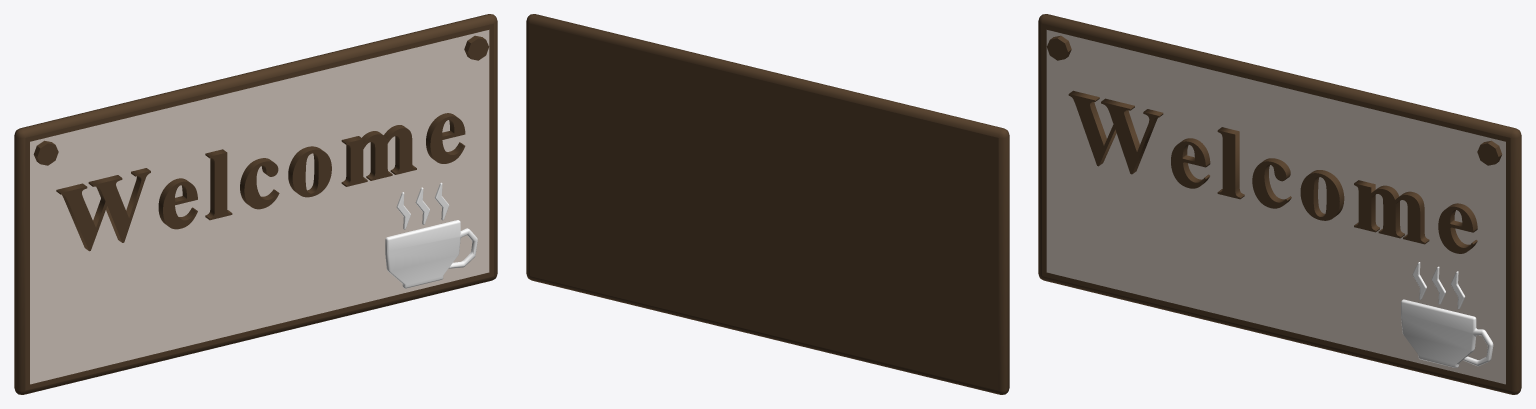
File: minicafe_wel.glb
The picture shows the model from 3 angles, left to right: view 1: azimuth 30°, elevation 25°; view 2: azimuth 150°, elevation 25°; view 3: azimuth 330°, elevation 25°; orthographic projection.
Visible parts, largest first — view 1: 立方体, テキスト, 立方体.001, 円柱, 立方体.002; view 2: 立方体; view 3: 立方体, テキスト, 立方体.001, 円柱, 立方体.002.
Boxes of the visible parts, bbox=[...] form: 立方体: bbox=[14, 14, 497, 394]; テキスト: bbox=[56, 113, 465, 251]; 立方体.001: bbox=[385, 220, 477, 288]; 円柱: bbox=[33, 35, 488, 165]; 立方体.002: bbox=[396, 182, 449, 229]; 立方体: bbox=[526, 14, 1009, 394]; 立方体: bbox=[1038, 14, 1521, 394]; テキスト: bbox=[1068, 90, 1477, 253]; 立方体.001: bbox=[1401, 299, 1493, 367]; 円柱: bbox=[1047, 35, 1502, 165]; 立方体.002: bbox=[1412, 262, 1465, 309].
Bounding box in the file's own units: 3.79 × 2 × 0.159.
